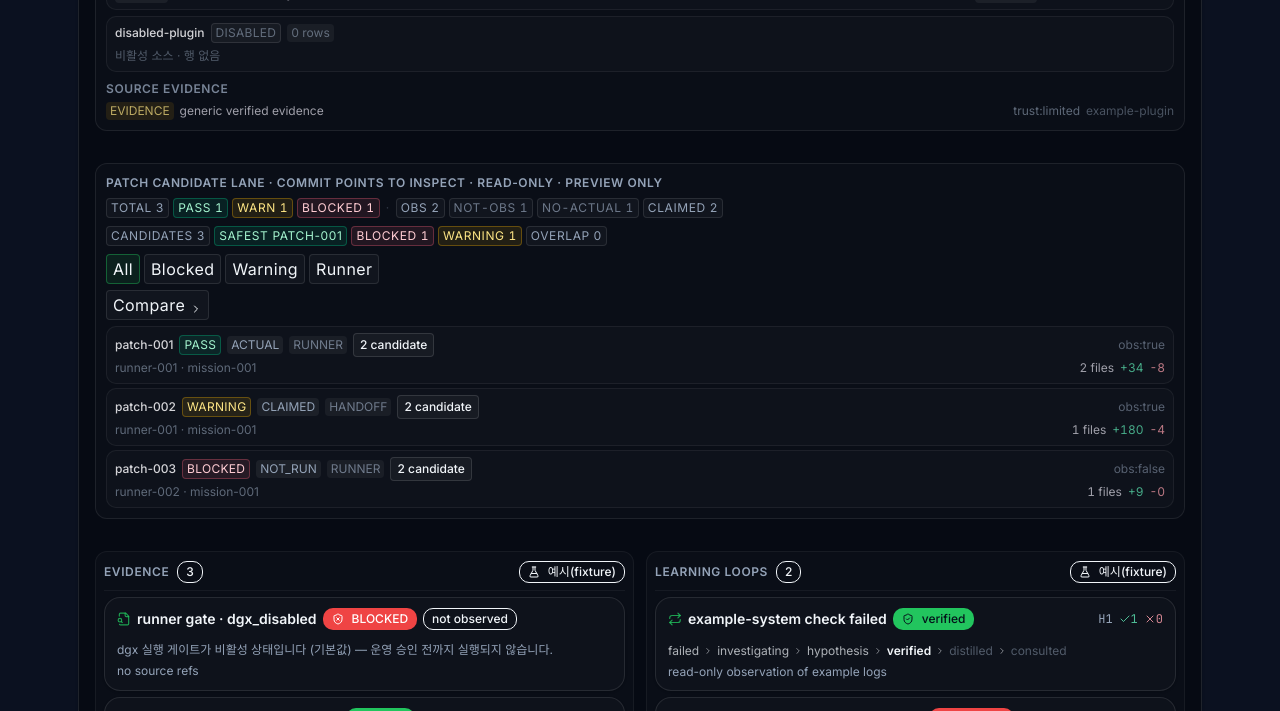
Scenario: Batch 17 LINE B — patch detail drawer › Esc closes the patch drawer
(page scrolled)
Click the button with test id "patch-candidate-patch-001" at (144, 344), box x1=106 y1=326 x2=1174 y2=384
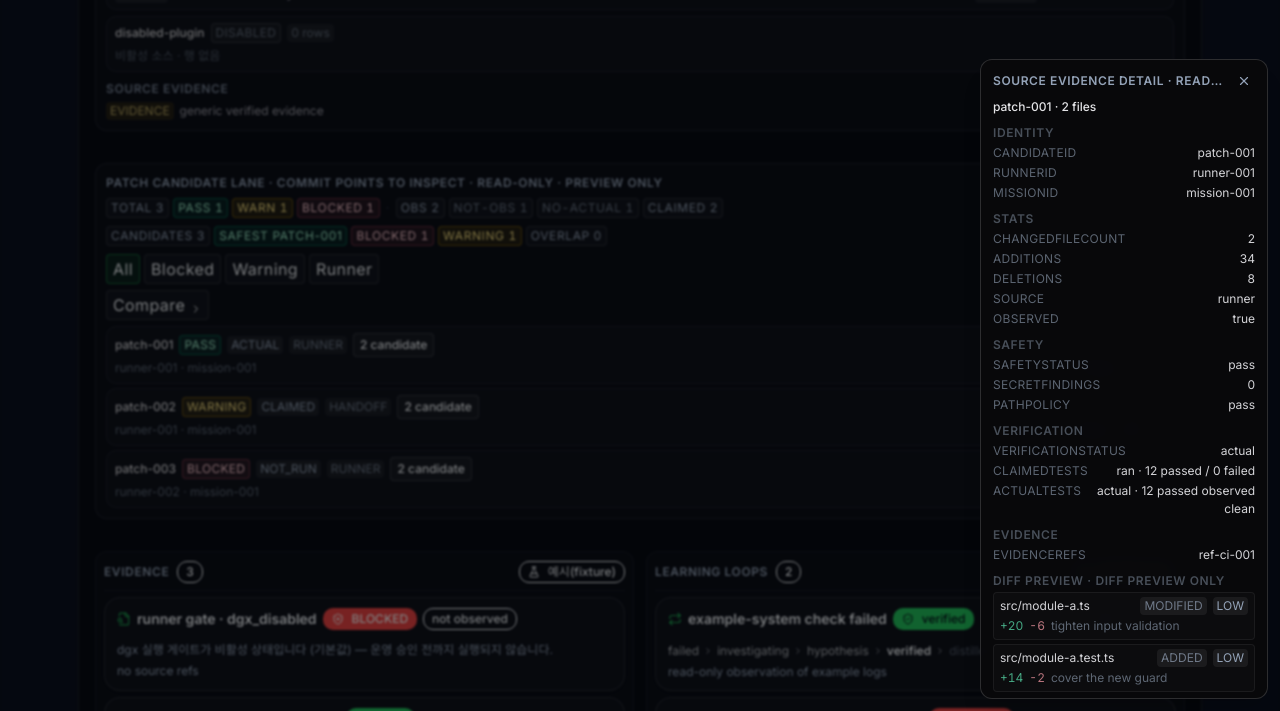
Expected: the dialog with test id "source-detail-drawer" is shown, x1=980 y1=59 x2=1268 y2=699
Press Escape
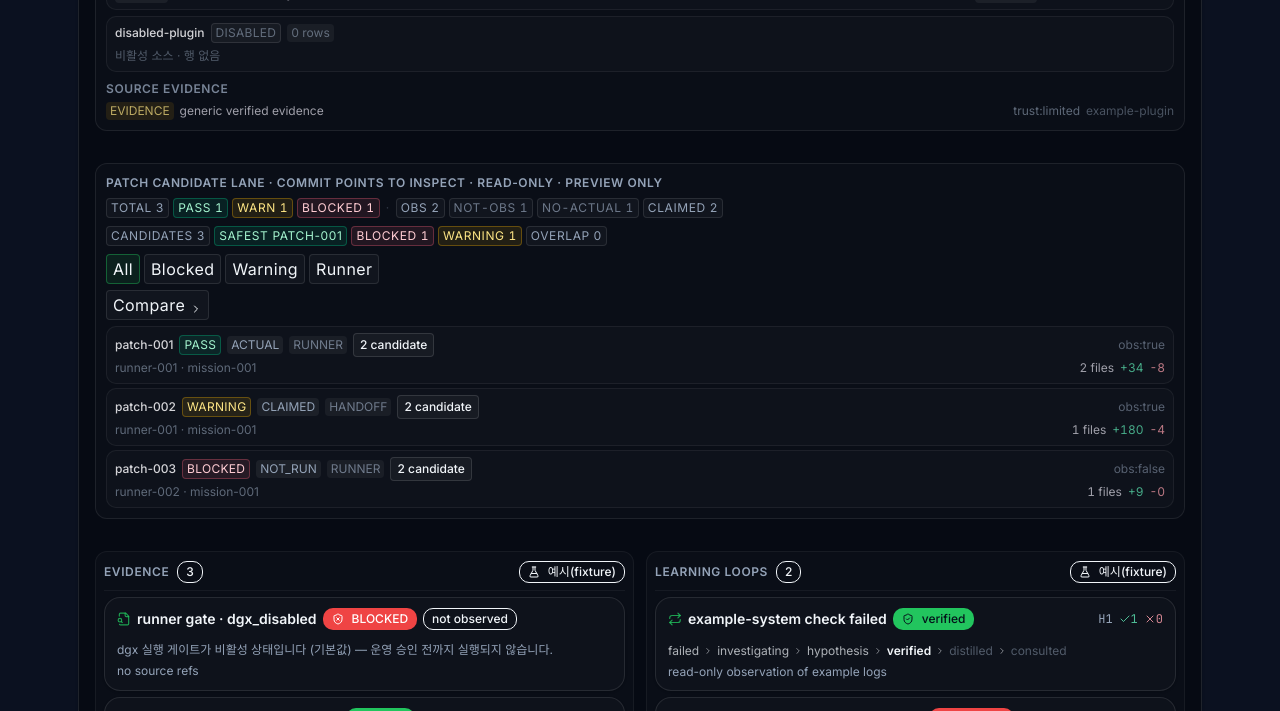
Expected: the dialog with test id "source-detail-drawer" is gone
